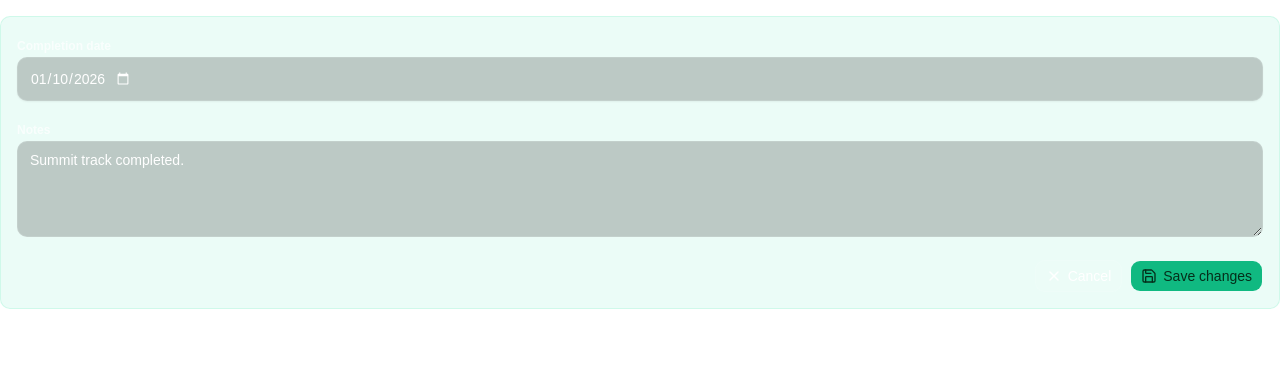
Test: EditCheckInForm › shows an error when saving fails
Click the button "Save changes" at (1197, 276), box [1130, 260, 1263, 292]
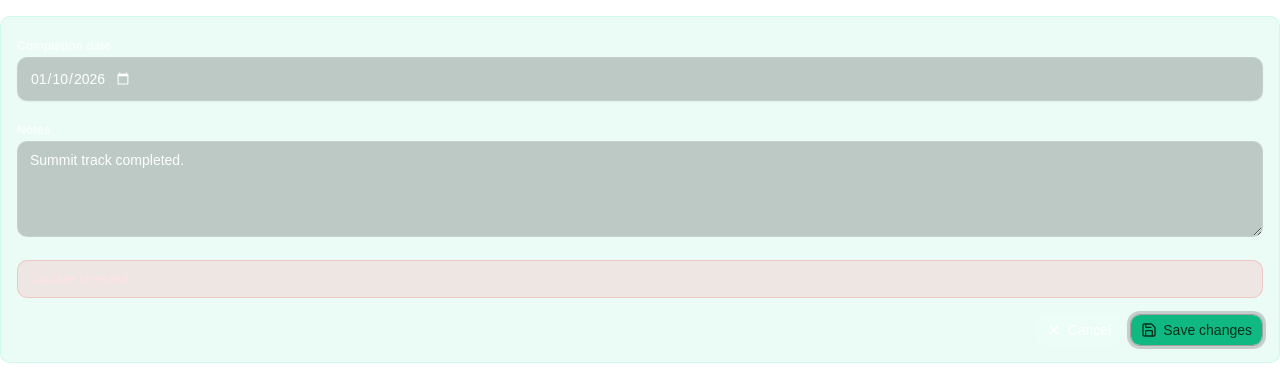
Now the text "Update rejected" is shown, box [17, 260, 1263, 298]
